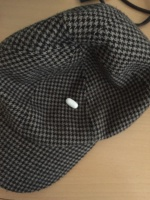Centik Buskopan: (65, 96, 79, 110)
